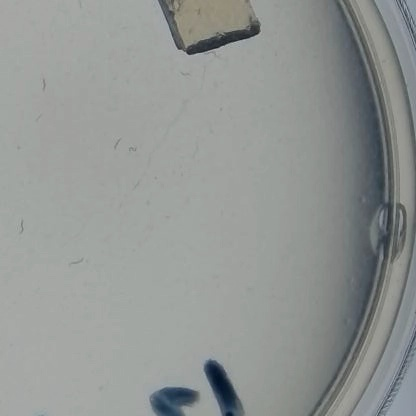worm: (67, 253, 89, 270), (108, 133, 122, 155), (174, 69, 196, 81), (127, 139, 139, 160), (129, 179, 143, 193), (17, 217, 27, 235), (39, 75, 50, 91), (32, 111, 47, 122), (73, 0, 82, 13)
